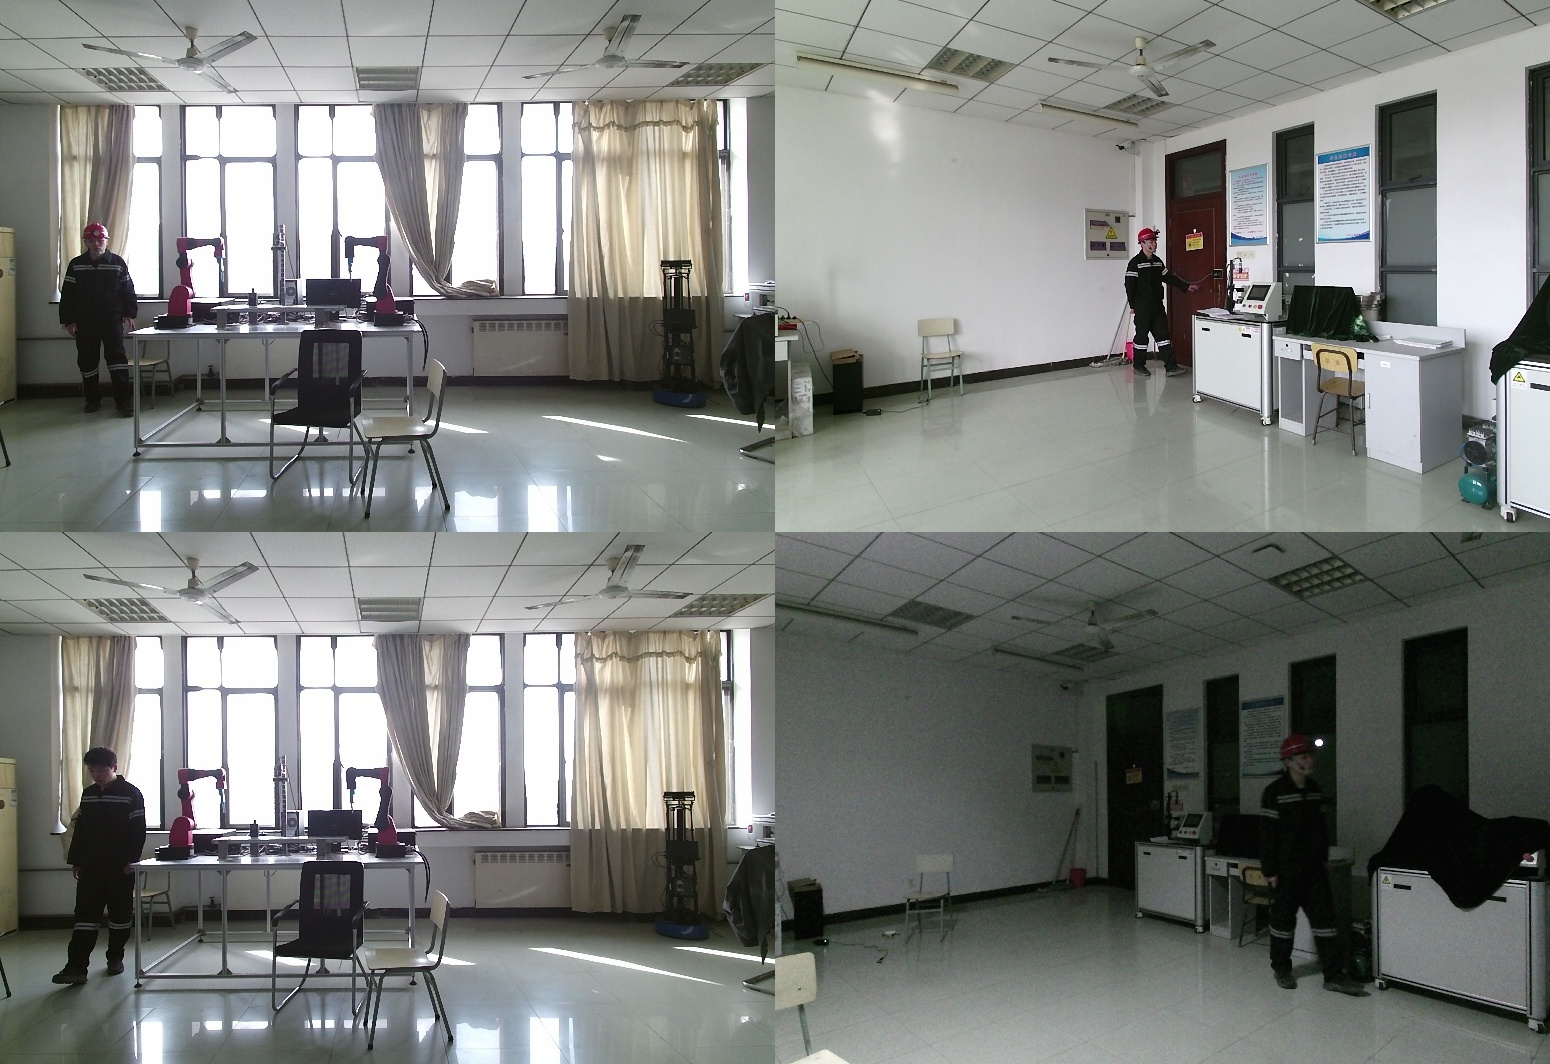person: (1255, 734, 1376, 991), (50, 749, 146, 983), (57, 224, 137, 416), (1124, 228, 1180, 380)
